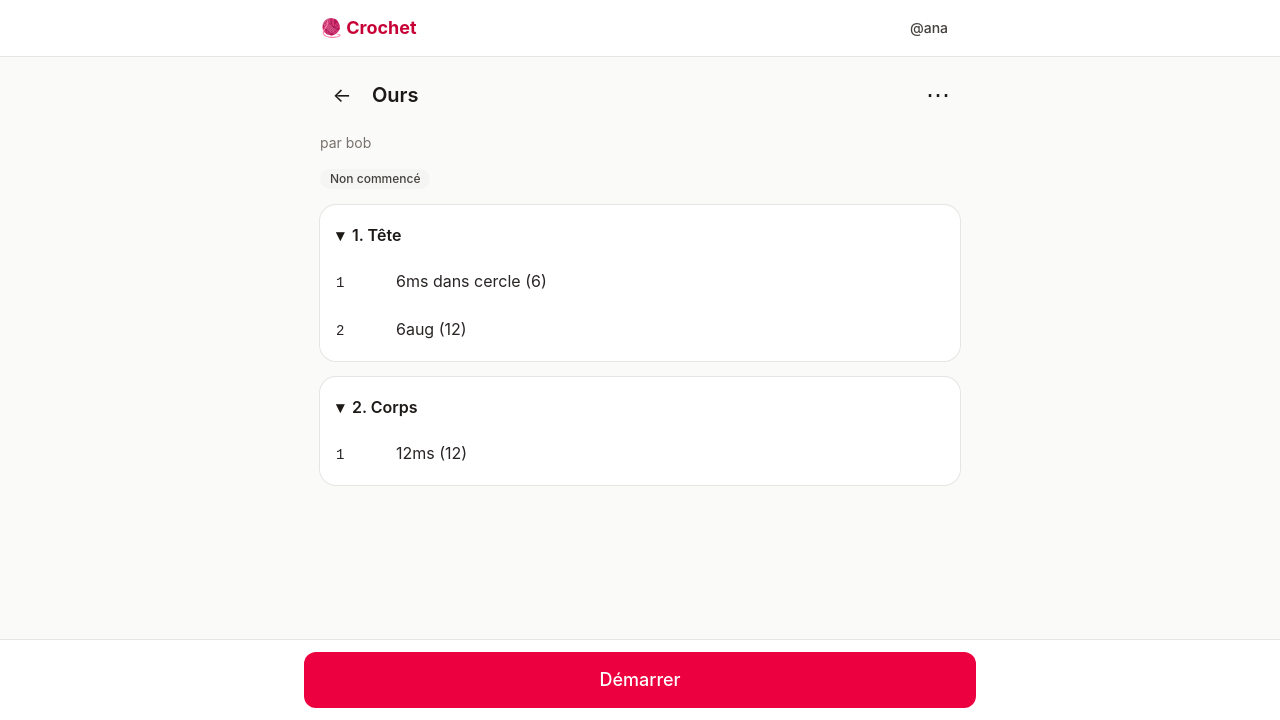
it: détail selon l’auteur › affiche l’auteur et masque Modifier/Supprimer sur le pattern d’un autre
Expected: the text "par bob" is shown, [320, 134, 371, 151]
Click the button named "Actions du pattern" at coordinates (938, 95), box [916, 73, 960, 117]
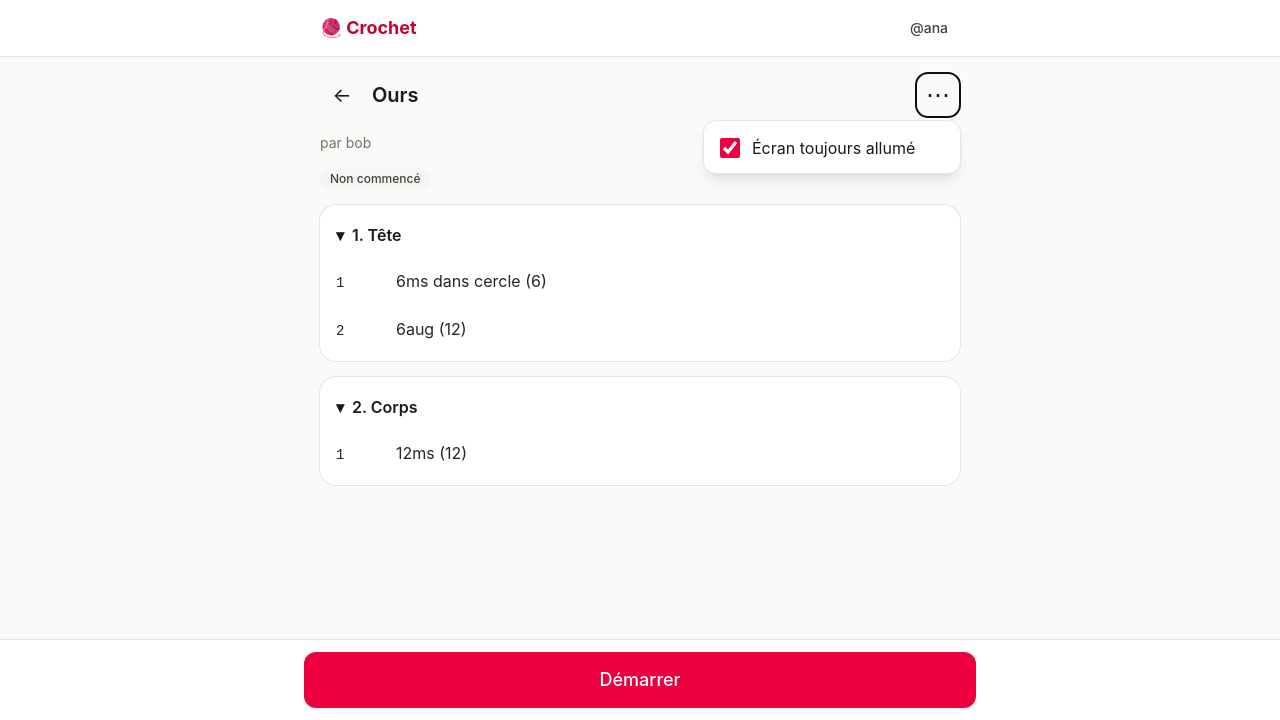
Expected: the checkbox labelled "Écran toujours allumé" is shown, [720, 138, 740, 158]
